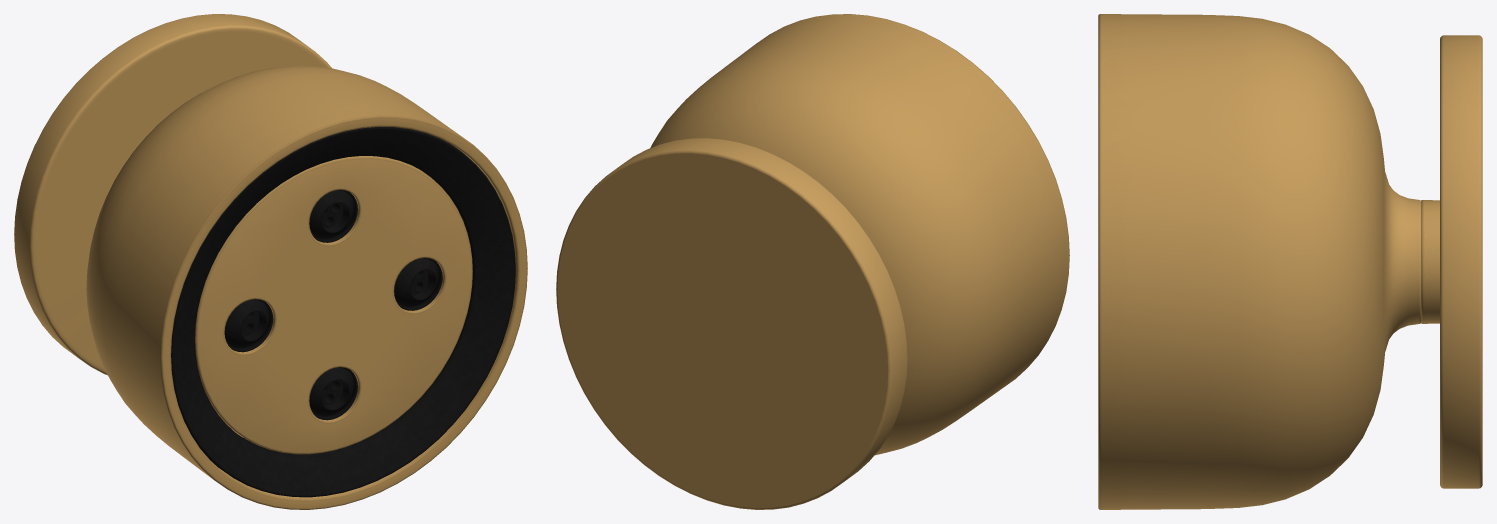
3 views of the same model, side by side, from view 1: azimuth 30°, elevation 25°; view 2: azimuth 150°, elevation 25°; view 3: azimuth 270°, elevation 25° (orthographic). The views are drawn at different scales.
Parts seen in each view (by area): view 1: 26299; view 2: 26299; view 3: 26299.
Part boxes in pixels (x1,y1,x2,y2): 26299: (14, 14, 527, 509); 26299: (556, 14, 1069, 509); 26299: (1098, 14, 1482, 509).
Size of the model in its own units: 0.0885 by 0.0885 by 0.0685.
Materials: 1 (1 with a texture image).
